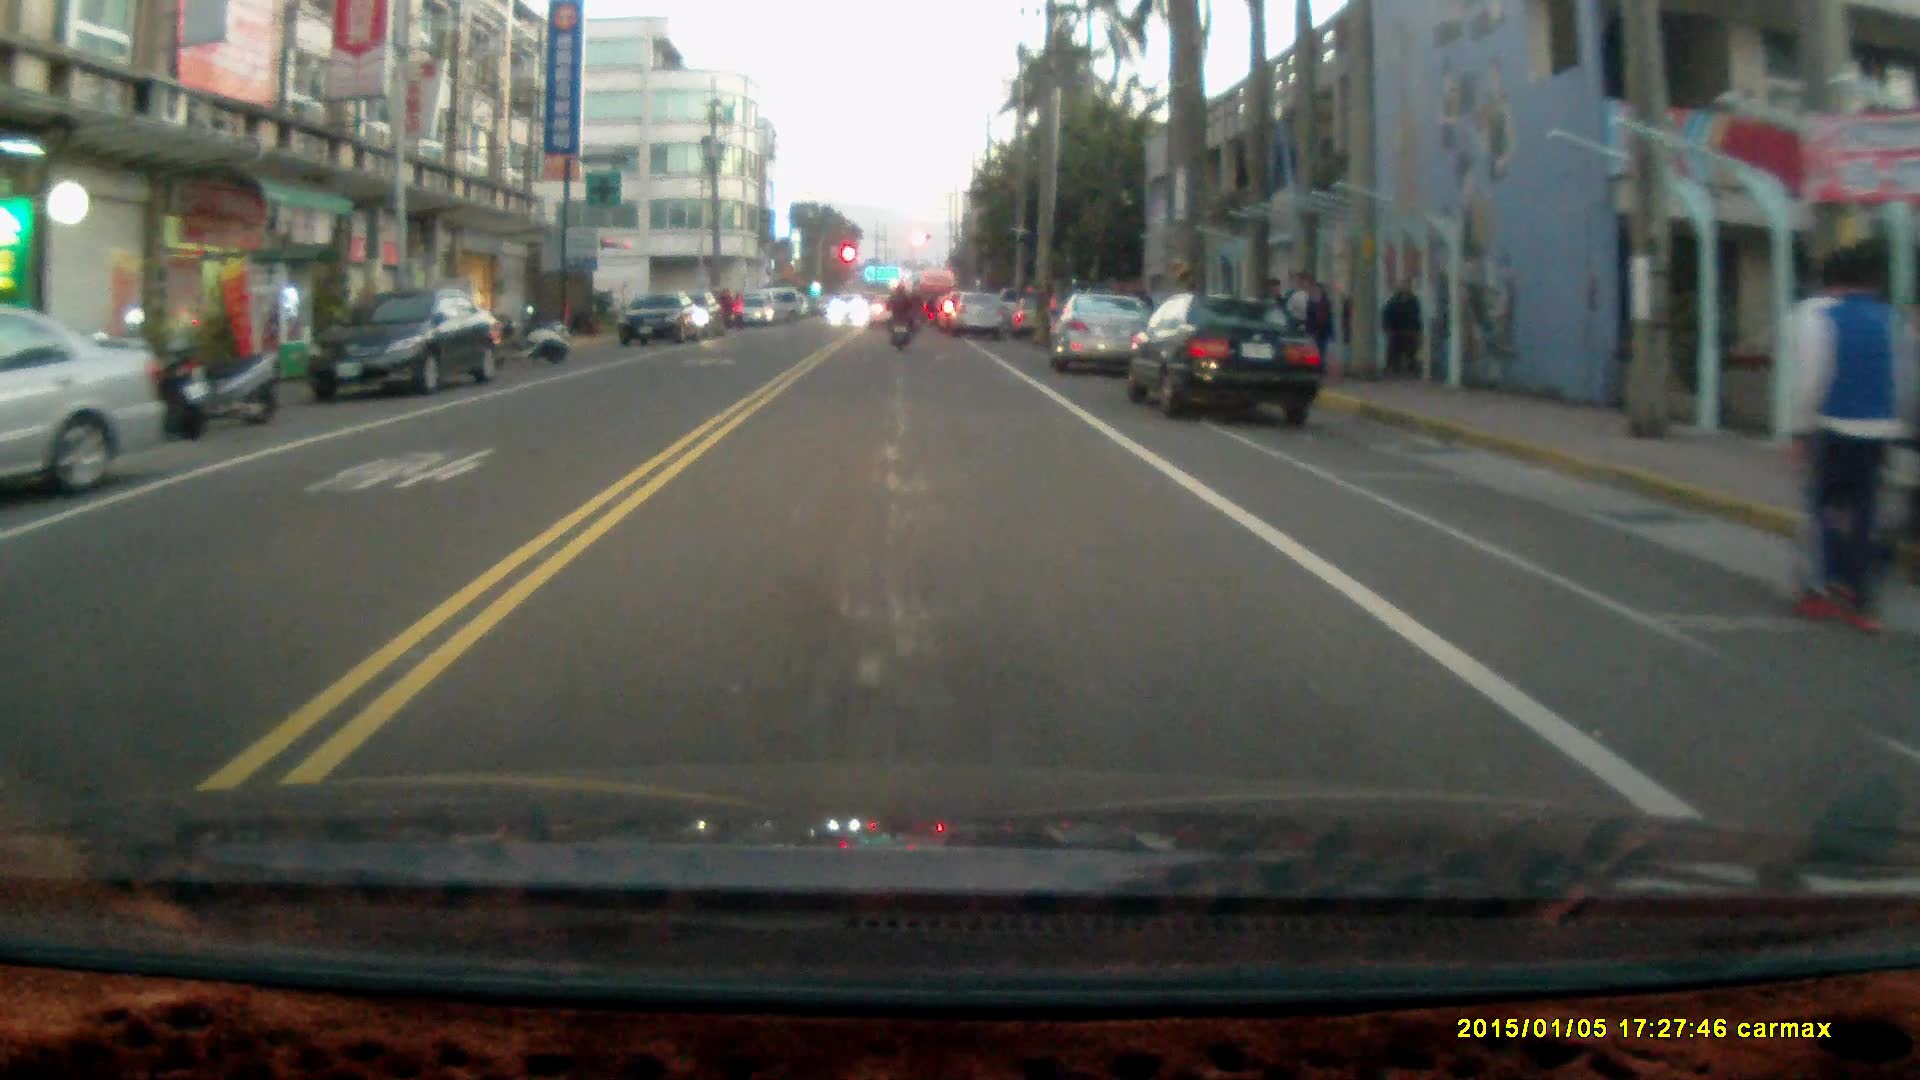pedestrian: (1776, 245, 1919, 639), (1378, 277, 1425, 385), (1295, 278, 1335, 375), (1284, 272, 1315, 370)
rider: (883, 279, 914, 351)
vehicle: (1, 311, 165, 503), (1125, 286, 1328, 425), (308, 285, 499, 400), (1049, 291, 1160, 375), (620, 296, 718, 352), (958, 290, 1013, 337)
